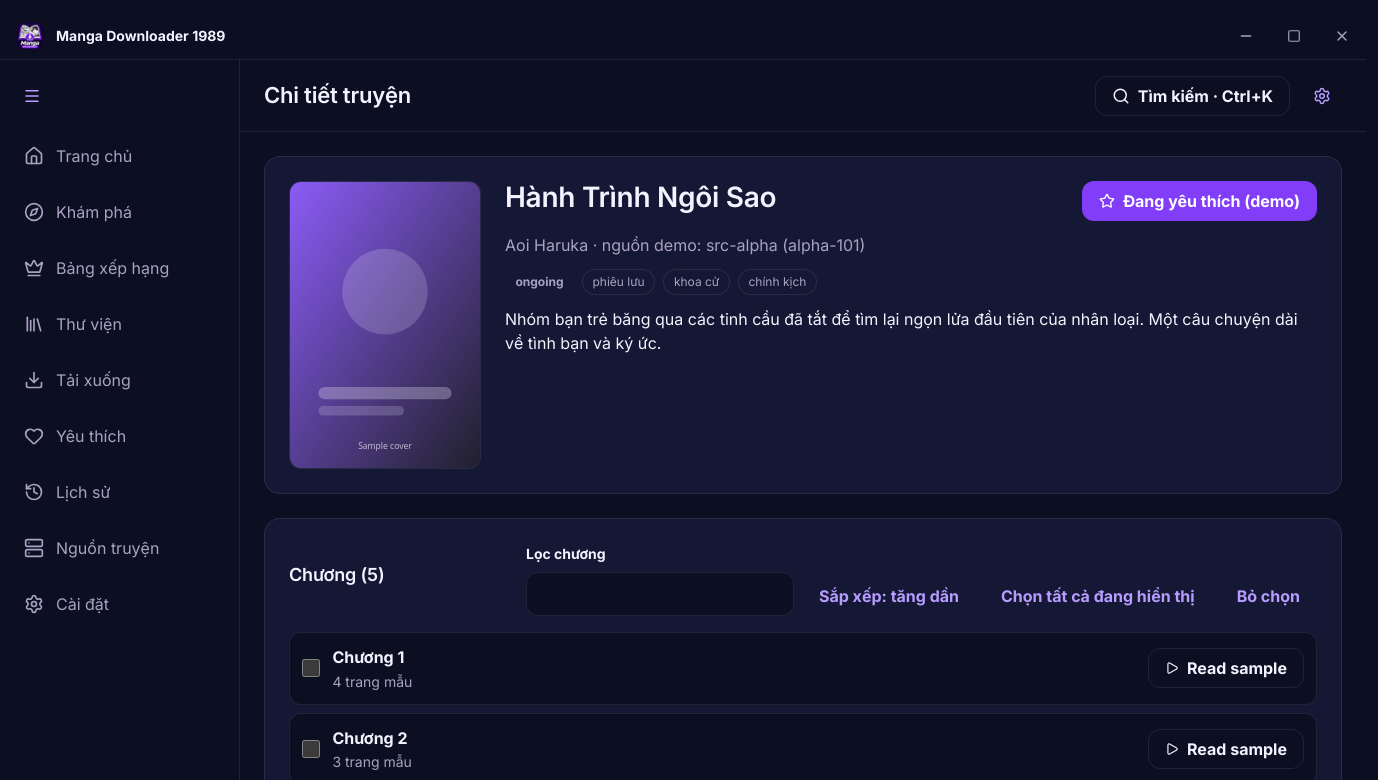
Test case: T03-05/T03-06 demo detail, queue, favorites and local boundary › selects chapters, queues with added/skipped counts
Click the checkbox labelled "Chương 1 4 trang mẫu". click: (311, 668)
box: [302, 659, 320, 678]
(page scrolled)
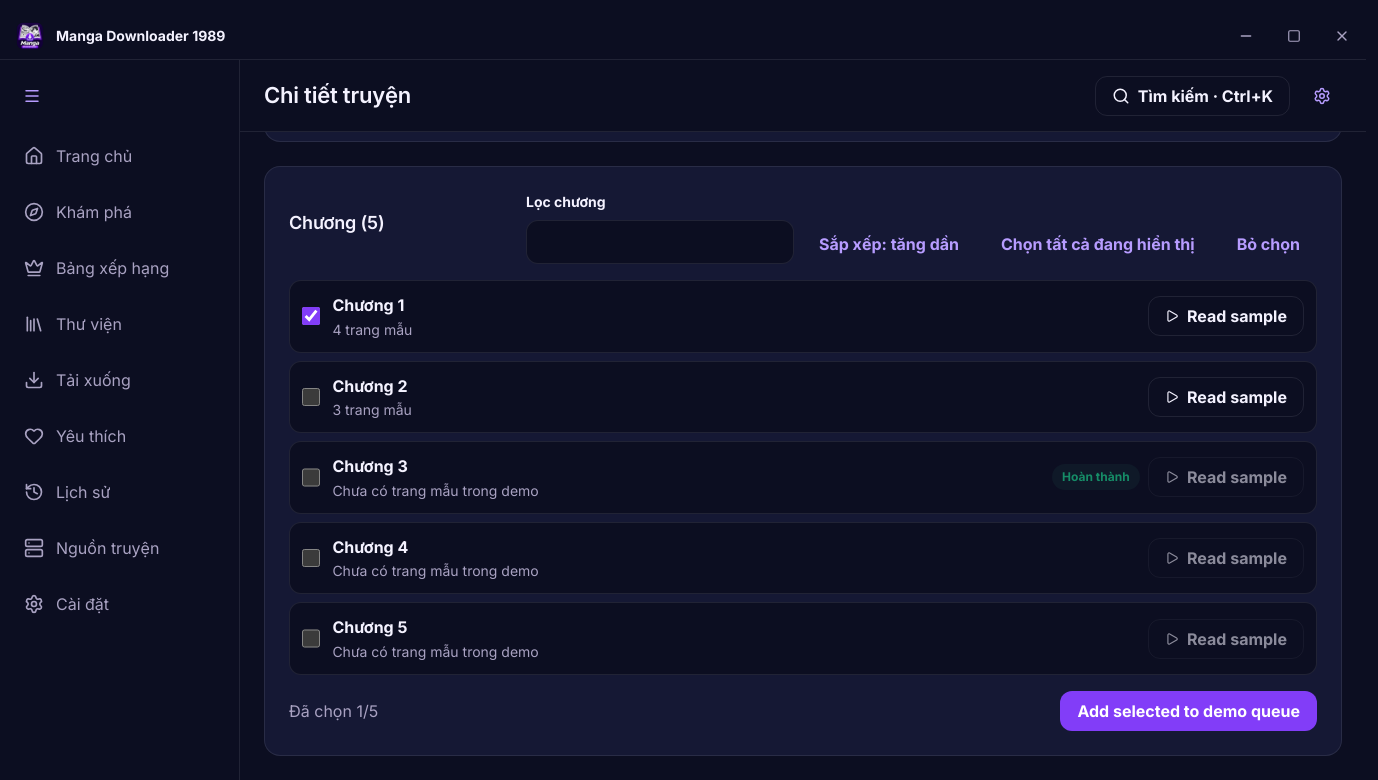
Click the checkbox labelled "Chương 3 Chưa có trang mẫu trong demo". click: (311, 478)
box: [302, 468, 320, 487]
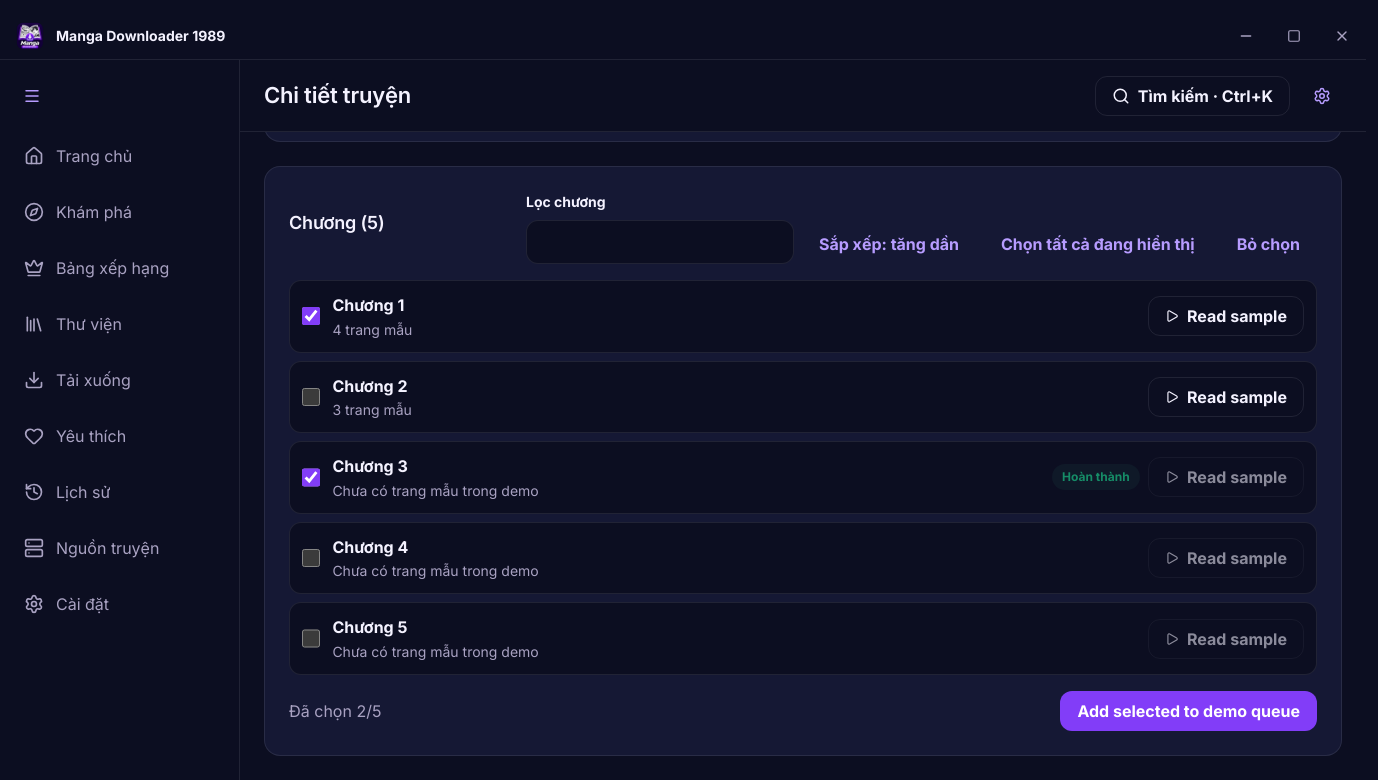
Click the button "Add selected to demo queue". click: (1189, 711)
box: [1060, 691, 1317, 731]
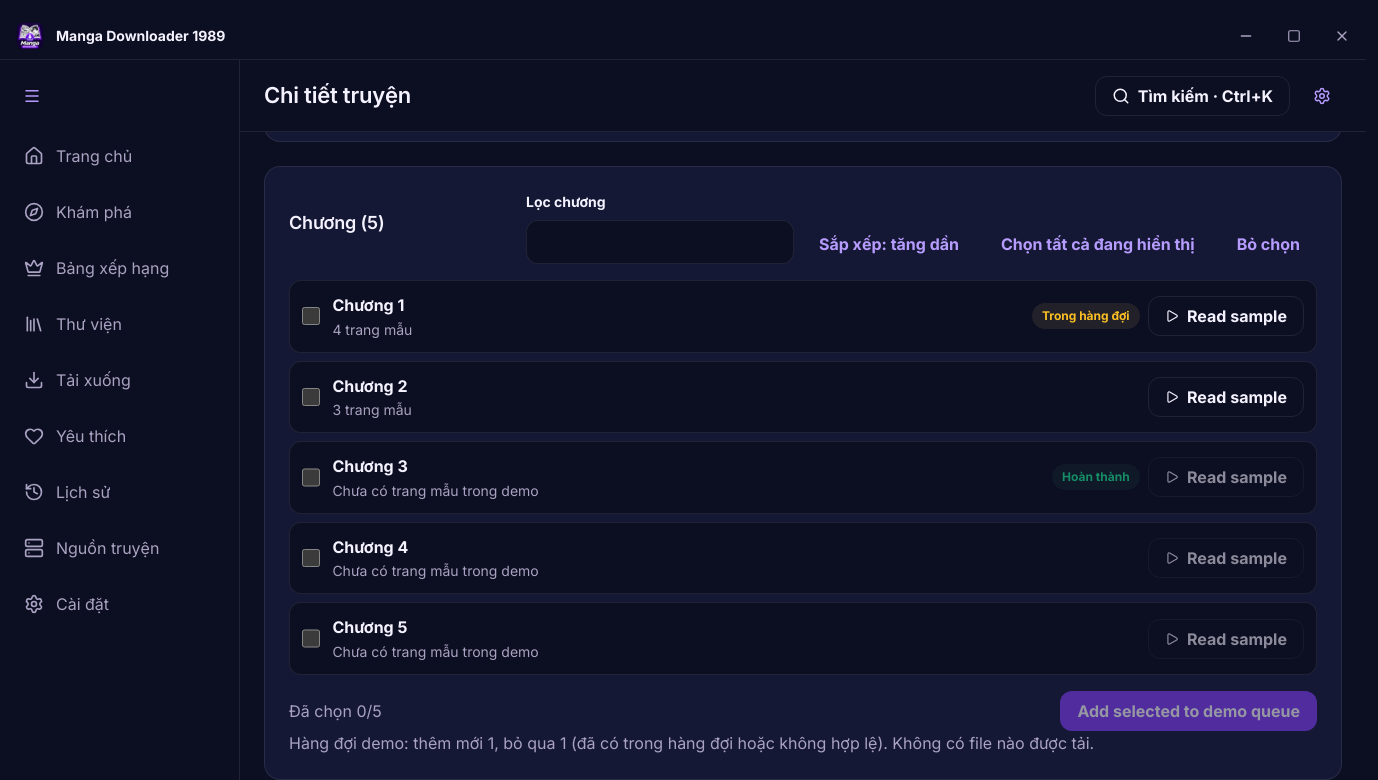
Check: the message shows "thêm mới 1, bỏ qua 1", box [289, 733, 1094, 753]
